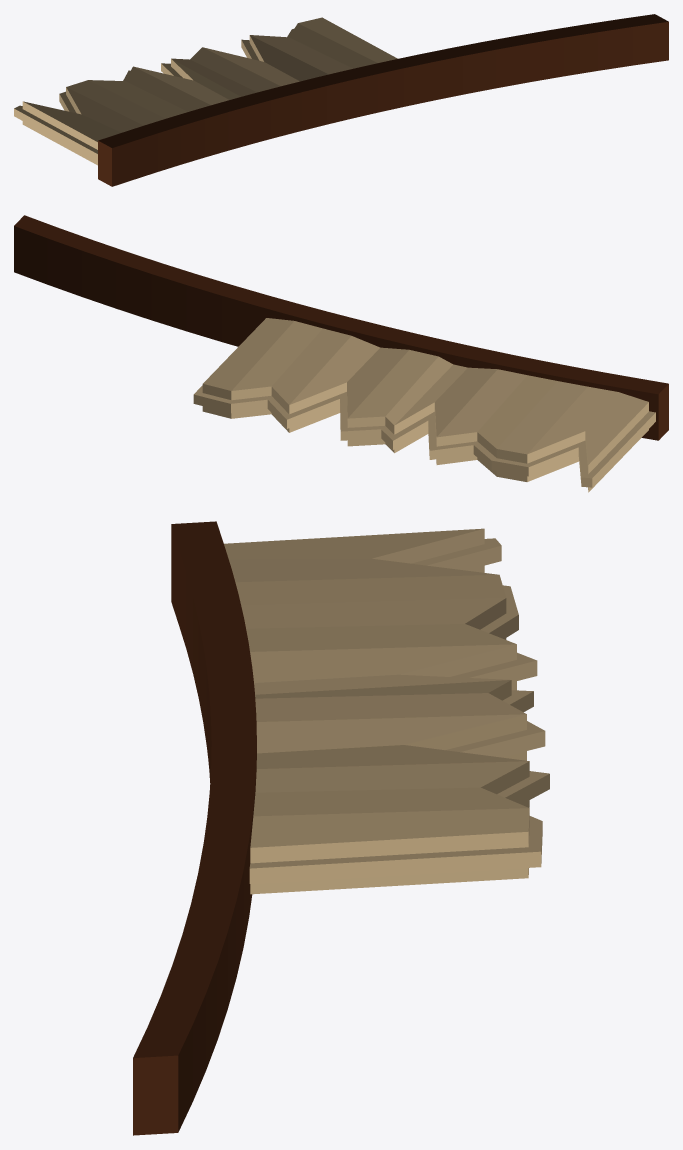
Rendered from Hair Brush.fbx.
3 renders of one model, top to bottom at view 1: azimuth 30°, elevation 25°; view 2: azimuth 150°, elevation 25°; view 3: azimuth 270°, elevation 25°, orthographic. The views are drawn at different scales.
Parts seen in each view (by area): view 1: Hair Brush; view 2: Hair Brush; view 3: Hair Brush.
Part boxes in pixels (x1,y1,x2,y2): Hair Brush: (14, 14, 668, 186); Hair Brush: (14, 215, 668, 492); Hair Brush: (133, 521, 549, 1135).
Size of the model in its own units: 0.2242 by 0.0459 by 0.7003.
